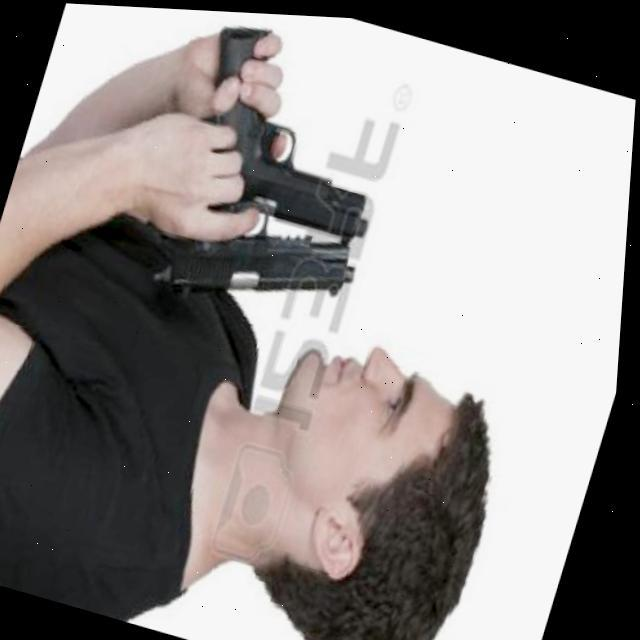gun: (161, 7, 419, 240), (137, 160, 380, 344)
